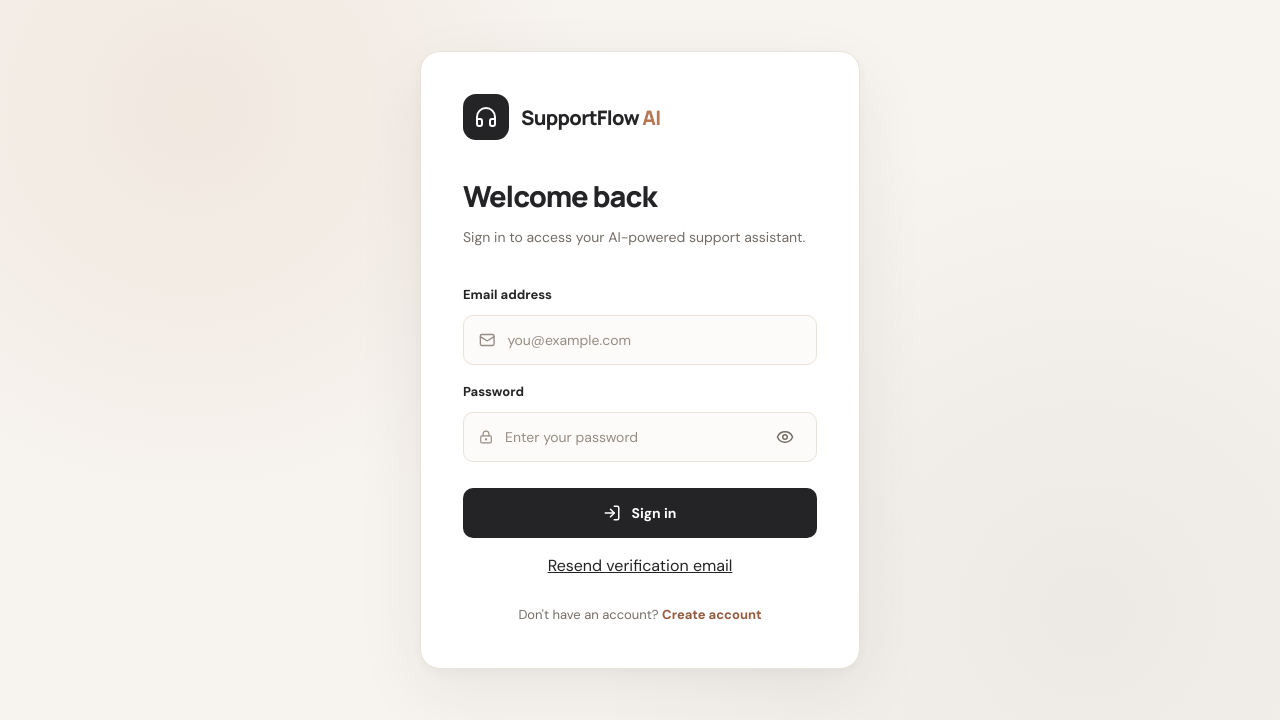
Test case: Login and email verification resend › does not open chat when verification status fails
The width and height of the screenshot is (1280, 720).
Type "customer@example.com" into the field labelled "Email address" at {"x": 654, "y": 340}, box [507,318,801,362]
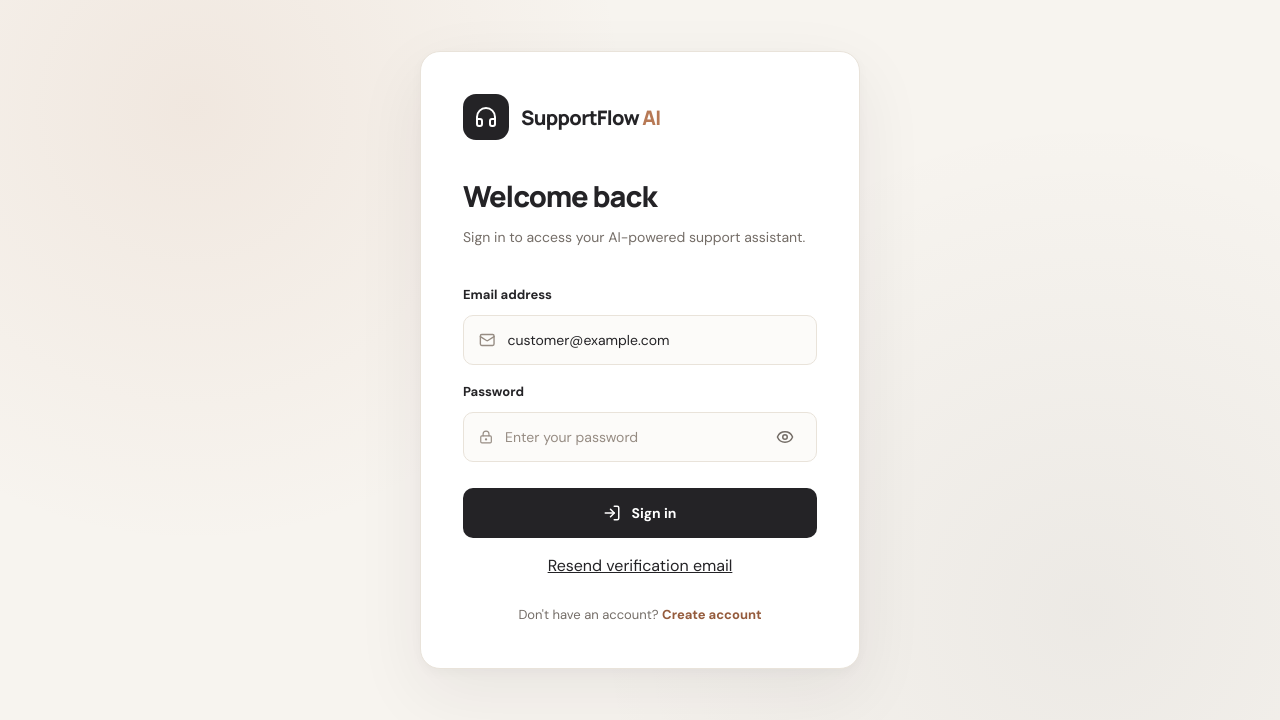
Type "StrongPass123!" into the password field labelled "Password" at {"x": 631, "y": 437}, box [505,415,757,459]
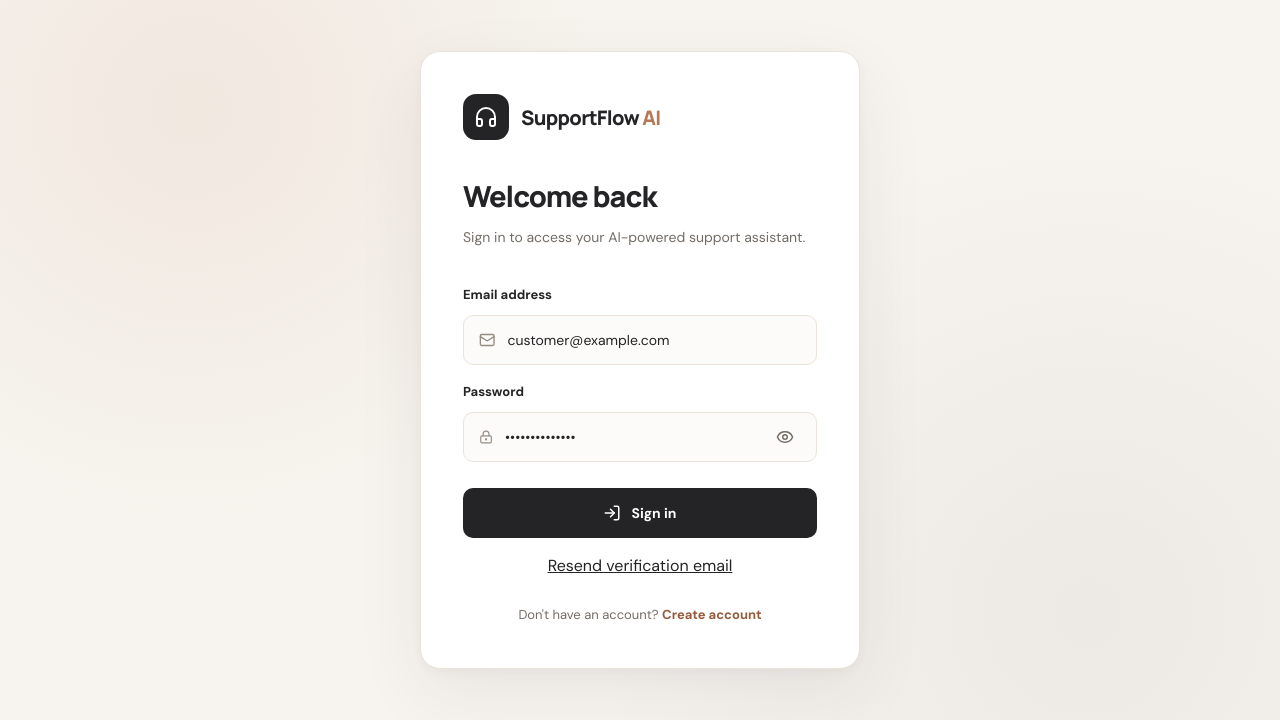
Click the button "Sign in" at {"x": 640, "y": 513}, box [463,488,817,538]
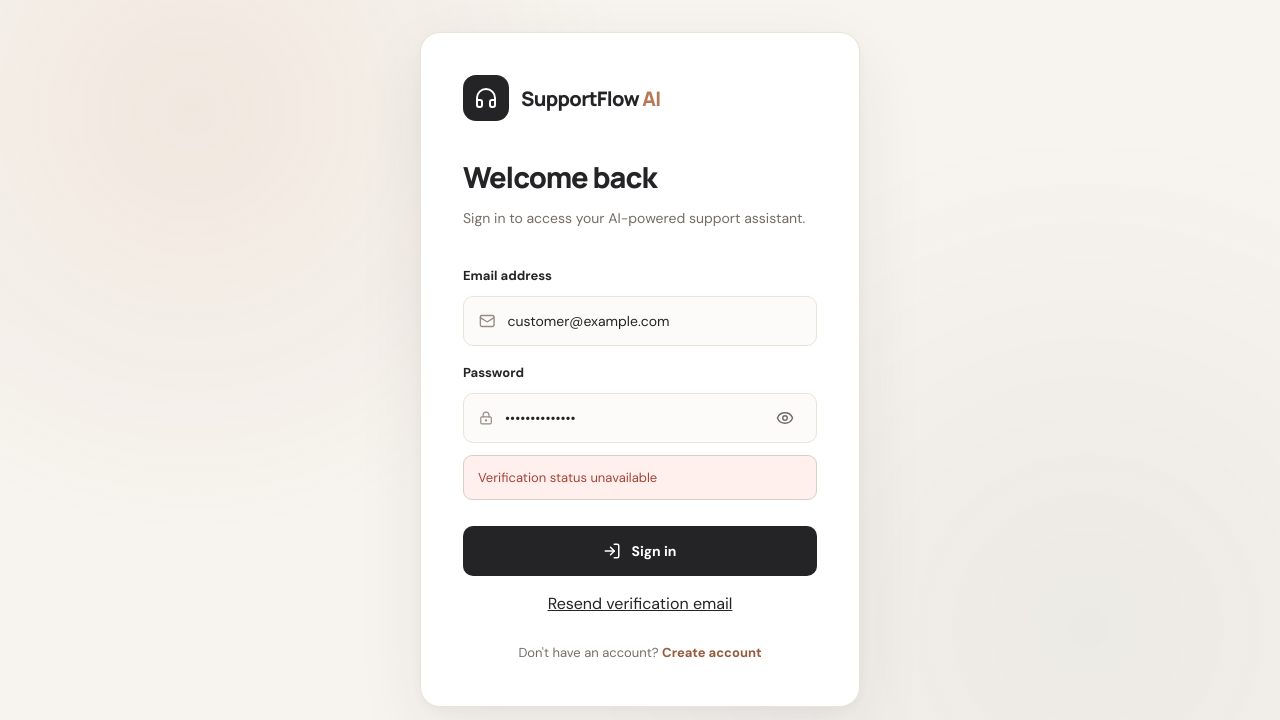
Now the message reads "Verification status unavailable", box [478,469,657,486]
